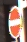No entry: (6, 6, 22, 37)
